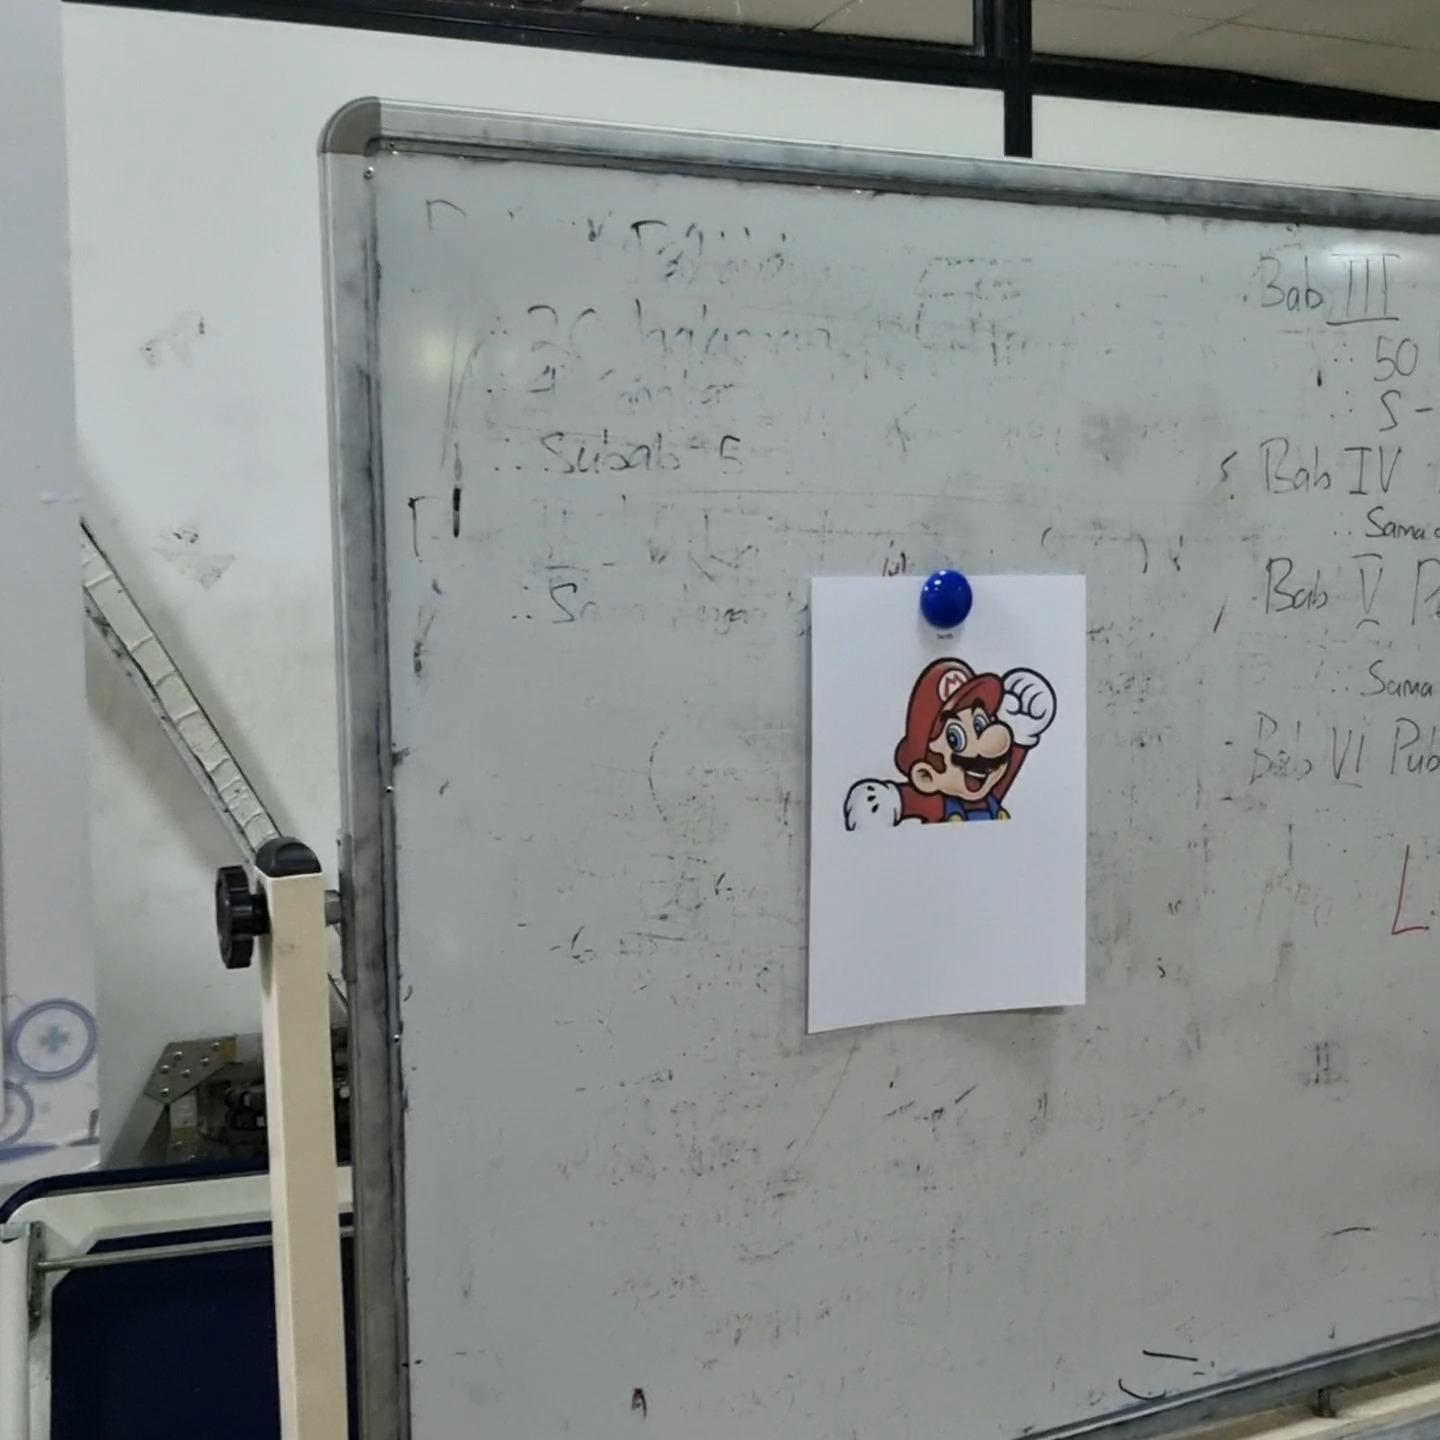mario: (837, 650, 1064, 839)
